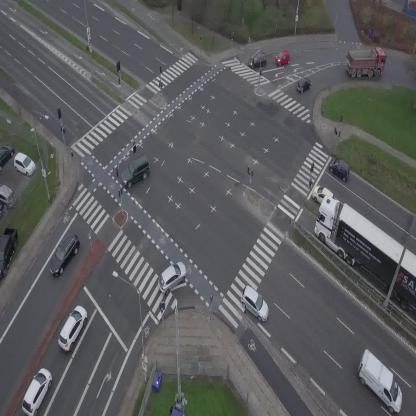car: (43, 231, 85, 279), (53, 303, 93, 353), (17, 366, 57, 416), (234, 284, 276, 324), (152, 258, 193, 297), (116, 155, 155, 190), (326, 155, 354, 182), (310, 184, 336, 206), (294, 76, 314, 95), (247, 51, 268, 68), (273, 49, 292, 66)
lorry: (346, 348, 415, 416), (346, 46, 387, 79)
